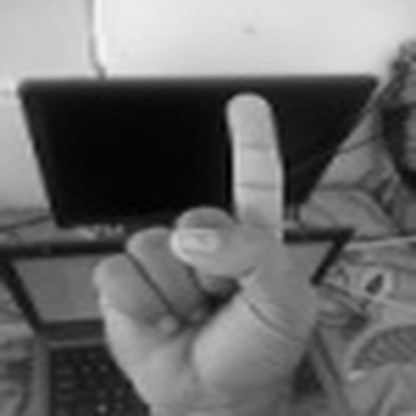d: (90, 89, 323, 412)
